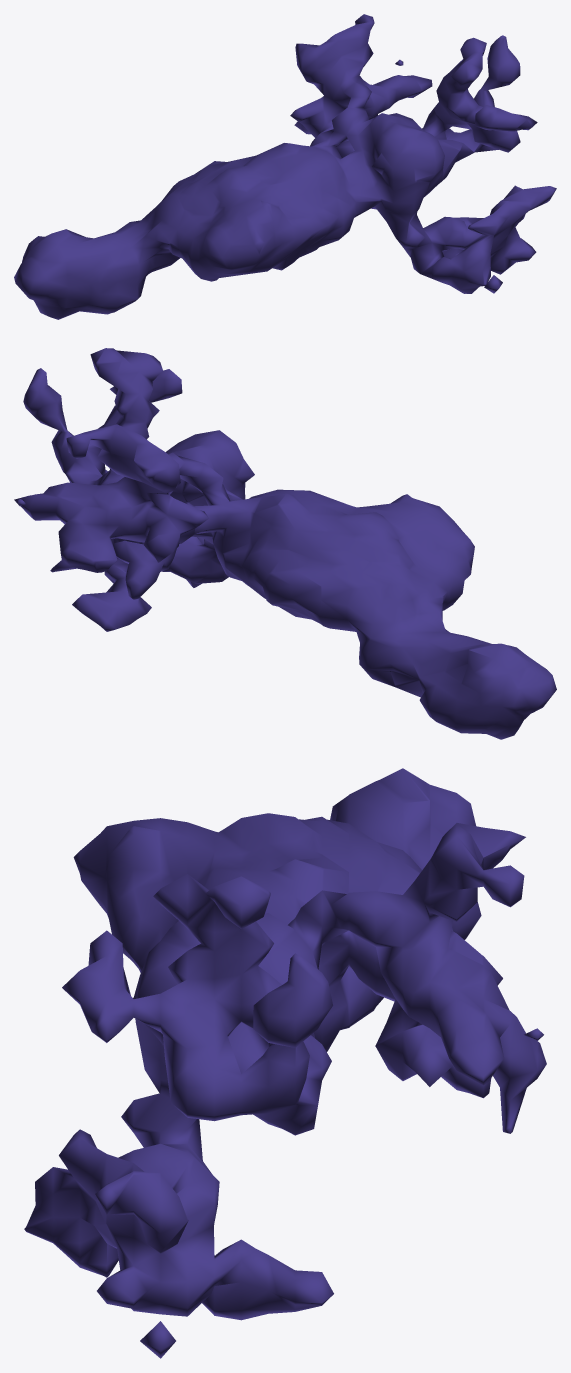
The model's file is Vesicle_54AAligned2.dae.
3 renders of one model, top to bottom at view 1: azimuth 30°, elevation 25°; view 2: azimuth 150°, elevation 25°; view 3: azimuth 270°, elevation 25°, orthographic. The views are drawn at different scales.
Parts seen in each view (by area): view 1: vesicle_MeshVes54Mesh; view 2: vesicle_MeshVes54Mesh; view 3: vesicle_MeshVes54Mesh.
Part boxes in pixels (box(x1,y1,x2,y2)): vesicle_MeshVes54Mesh: box(14, 14, 556, 319); vesicle_MeshVes54Mesh: box(14, 348, 556, 739); vesicle_MeshVes54Mesh: box(24, 768, 546, 1358).
Bounding box in the file's own units: 195 × 94.56 × 92.86.
